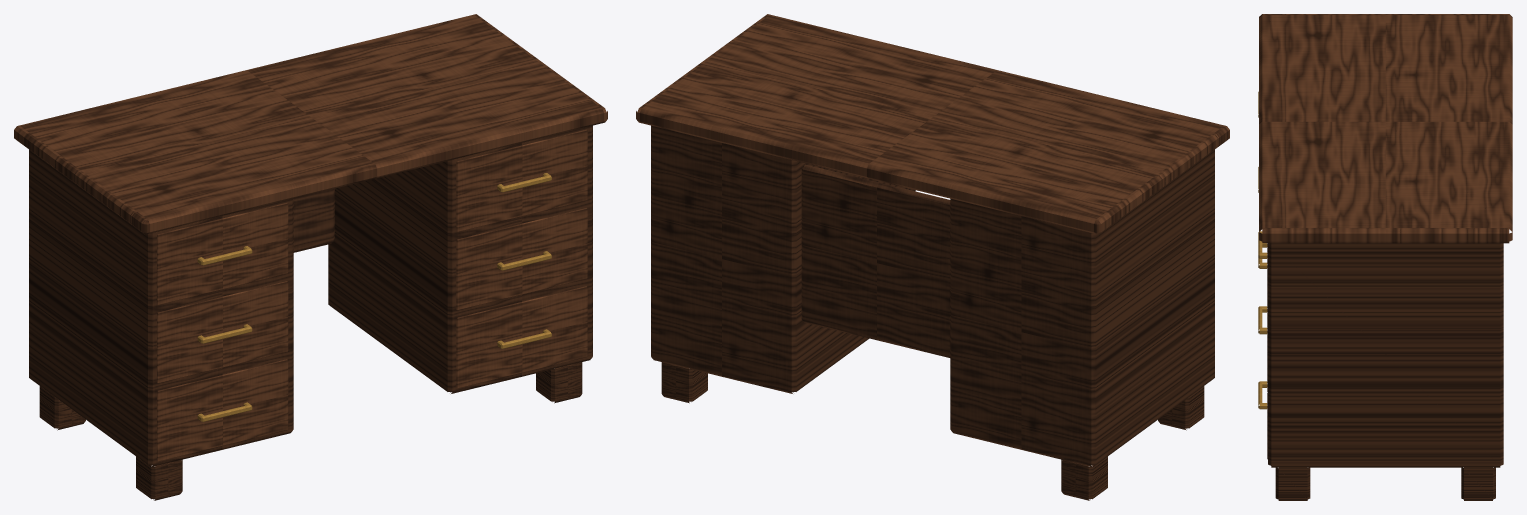
The model's file is escrivaninha.glb.
3 views of the same model, side by side, from view 1: azimuth 30°, elevation 25°; view 2: azimuth 150°, elevation 25°; view 3: azimuth 270°, elevation 25° (orthographic). The views are drawn at different scales.
Parts seen in each view (by area): view 1: Madeira, Tampo, Gavetas, Gaveta, Metal; view 2: Madeira, Tampo; view 3: Tampo, Madeira, Metal.
Part boxes in pixels (<box>): Madeira: <box>29,125,592,500</box>; Tampo: <box>14,14,607,234</box>; Gavetas: <box>157,129,587,461</box>; Gaveta: <box>456,286,587,388</box>; Metal: <box>197,173,551,421</box>; Madeira: <box>651,125,1214,500</box>; Tampo: <box>636,14,1229,234</box>; Tampo: <box>1259,14,1512,243</box>; Madeira: <box>1268,243,1503,500</box>; Metal: <box>1258,91,1267,409</box>.
Size of the model in its own units: 1.28 by 0.765 by 0.6305.
5 materials, 5 textured.
